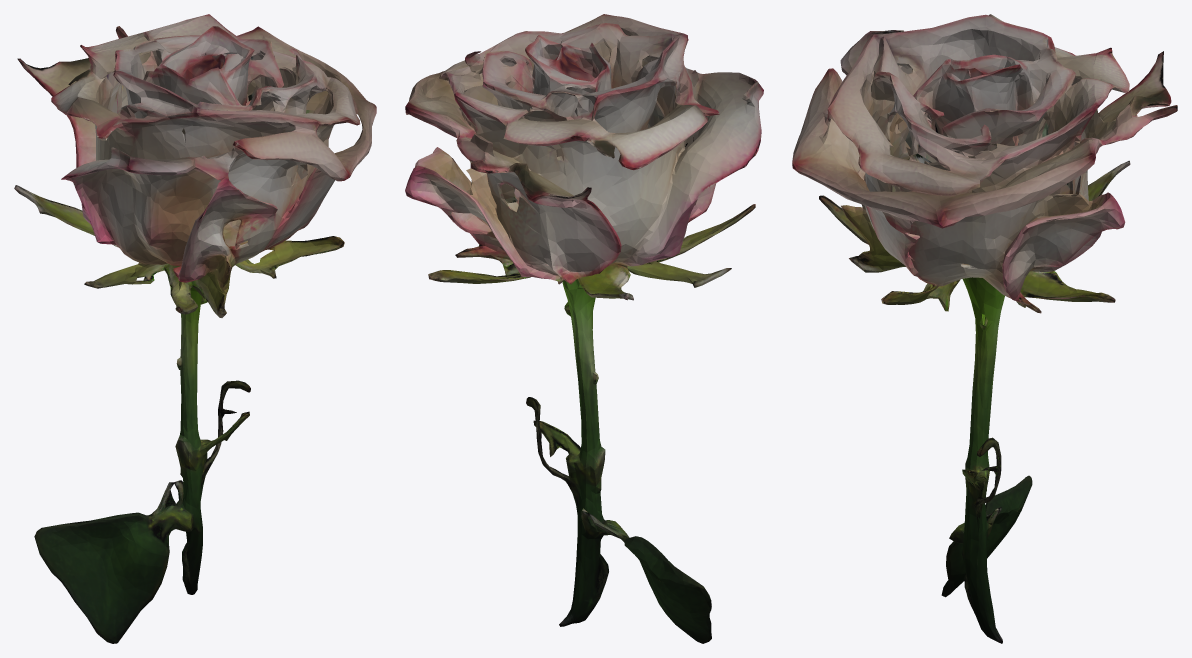
3 renders of one model, left to right at view 1: azimuth 30°, elevation 25°; view 2: azimuth 150°, elevation 25°; view 3: azimuth 270°, elevation 25°, orthographic. The views are drawn at different scales.
Parts seen in each view (by area): view 1: world; view 2: world; view 3: world.
Part boxes in pixels (x1,y1,x2,y2): world: (14,14,376,643); world: (405,14,763,643); world: (792,14,1177,643).
Size of the model in its own units: 0.5639 by 0.9729 by 0.564.
1 material, 1 textured.
